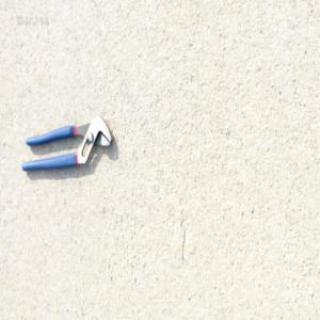Pliertrack_idkeyframe: (19, 114, 113, 171)
